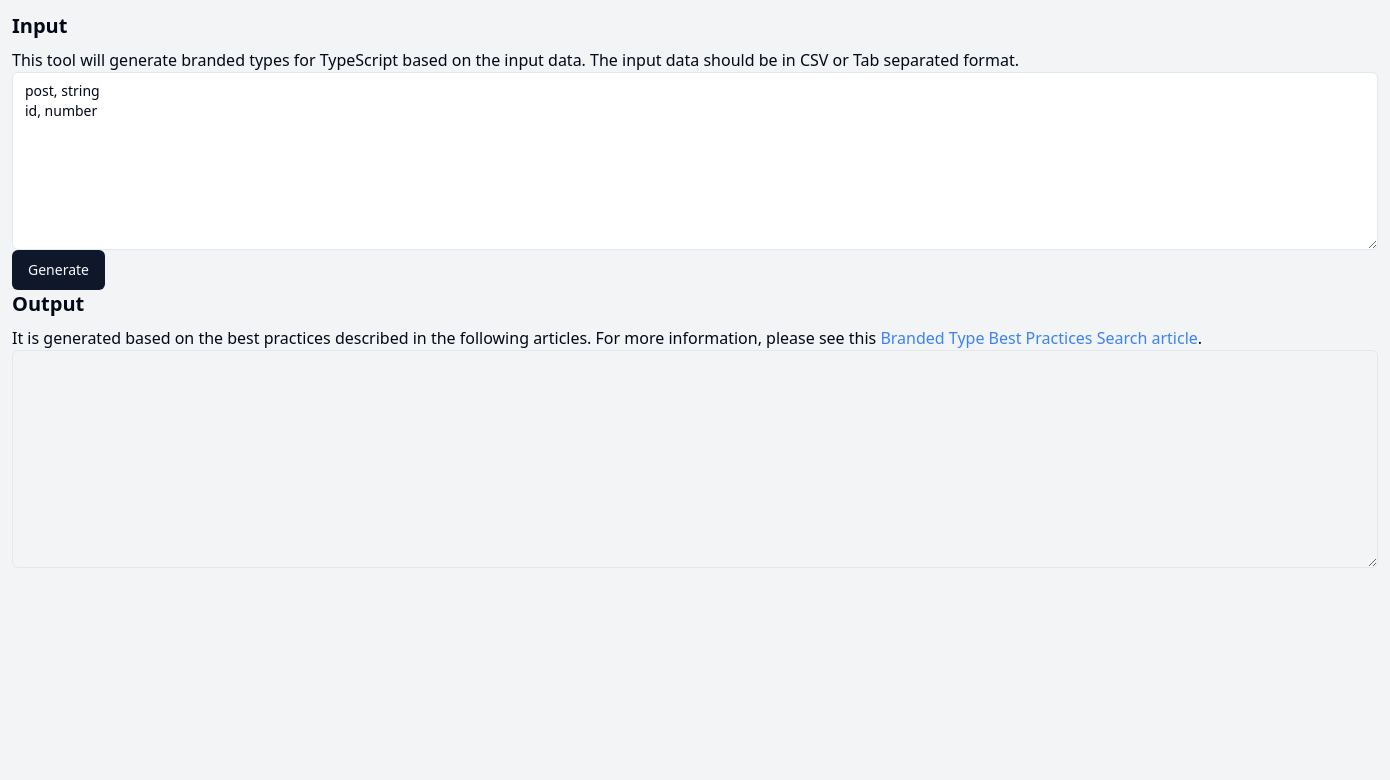
Generator.tsx tests › プリミティブ型以外の型が指定された場合にエラーメッセージが表示されること
入力テキストにプリミティブでない型を設定
Replace the text in the text box named "Input Text" with "something,object" at coordinates (695, 161), box [12,72,1378,250]
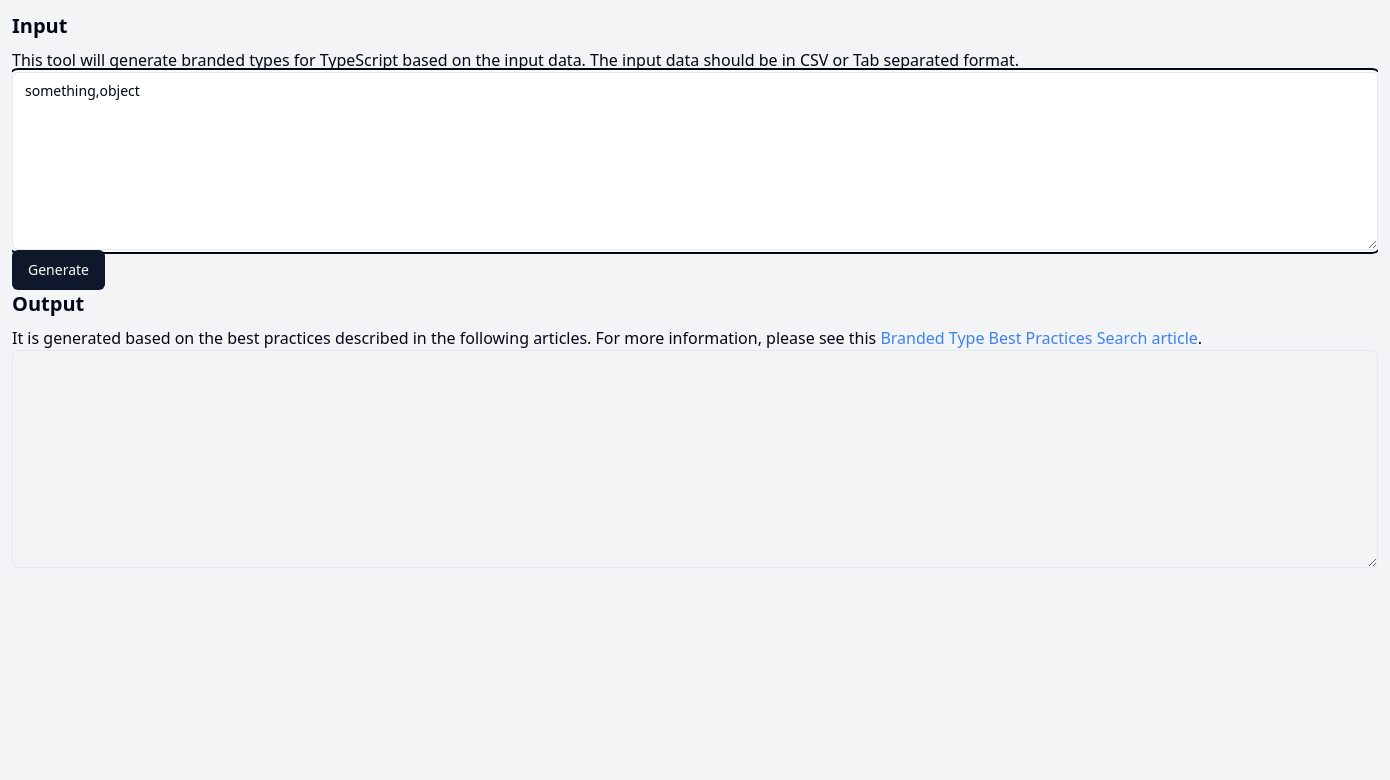
Click the button "Generate".
click(58, 270)  # box [12,250,105,290]
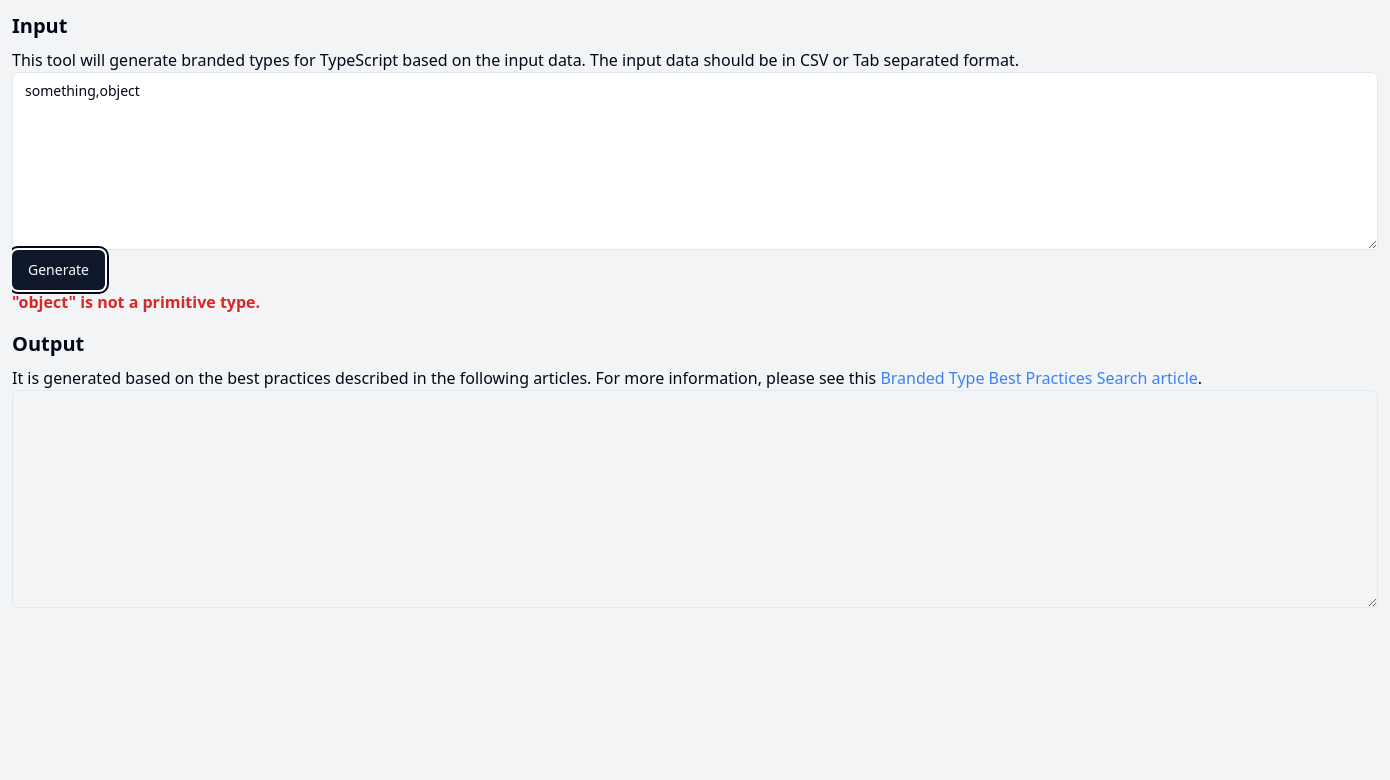
Expected: the text "\"object\" is not a primitive type." is shown, [12,291,260,313]
